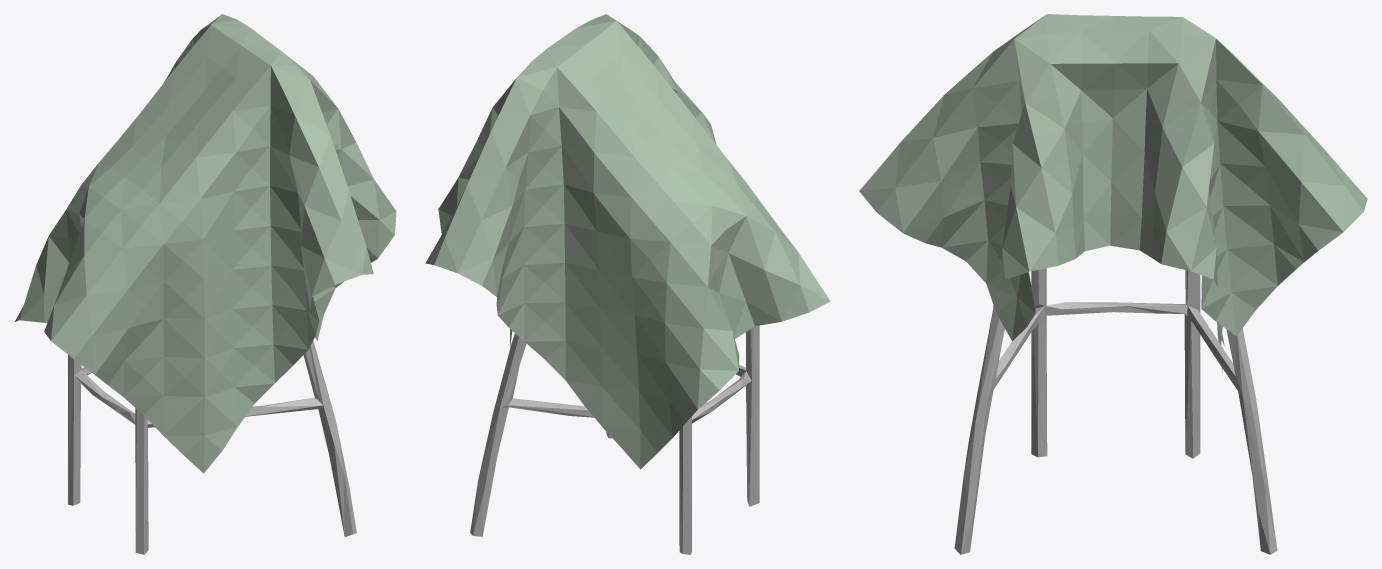
The model's file is level_0.glb.
3 views of the same model, side by side, from view 1: azimuth 30°, elevation 25°; view 2: azimuth 150°, elevation 25°; view 3: azimuth 270°, elevation 25° (orthographic). The views are drawn at different scales.
Visible parts, largest first — view 1: world, object.obj; view 2: world, object.obj; view 3: world, object.obj.
Part boxes in pixels (x1,y1,x2,y2): world: (15,14,396,473); object.obj: (68,341,356,554); world: (425,14,830,469); object.obj: (470,325,759,554); world: (859,14,1367,374); object.obj: (954,268,1277,554).
Bounding box in the file's own units: 0.3308 × 0.4279 × 0.3824.
